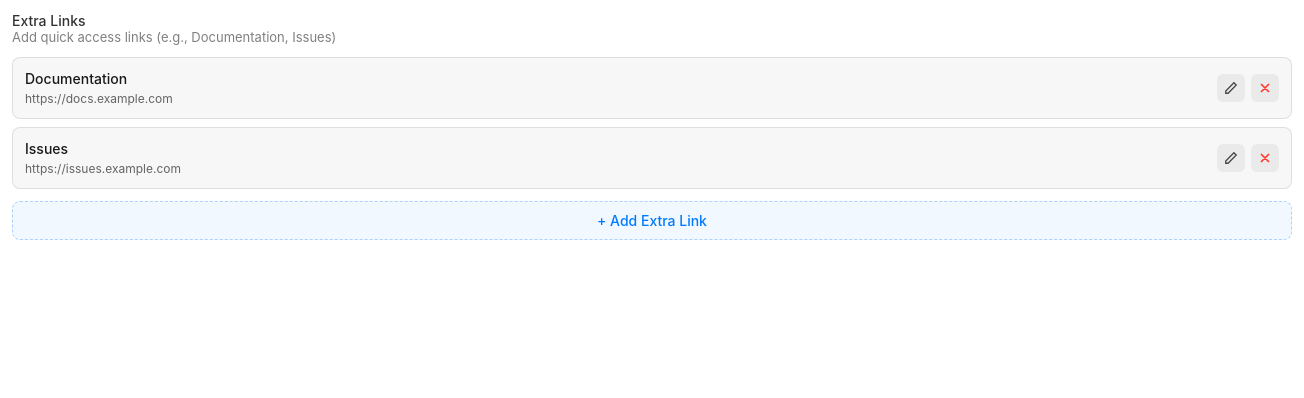
Test: ExtraLinksSection › should open add form when add button is clicked
What coordinates should you click on to do the following:
click the button with class "add-link-button"
I would click on:
 (652, 220)
Its box is [12, 201, 1292, 240].
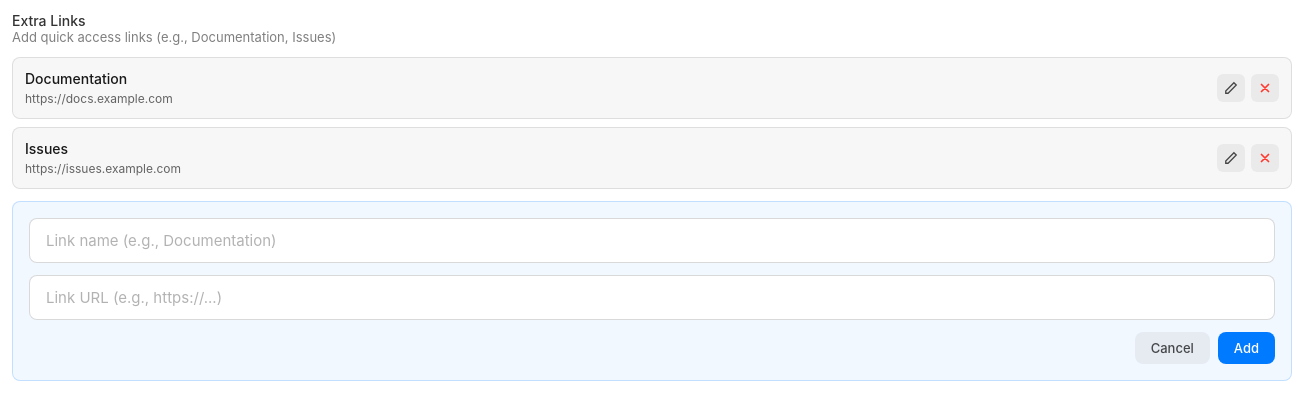
Result: the element with class "link-form" is shown at [12, 201, 1292, 381]
